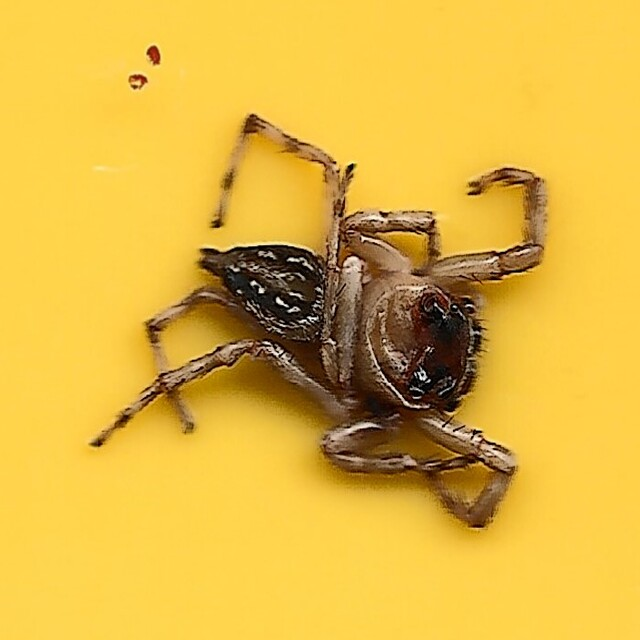Araneae: (91, 109, 549, 531)
